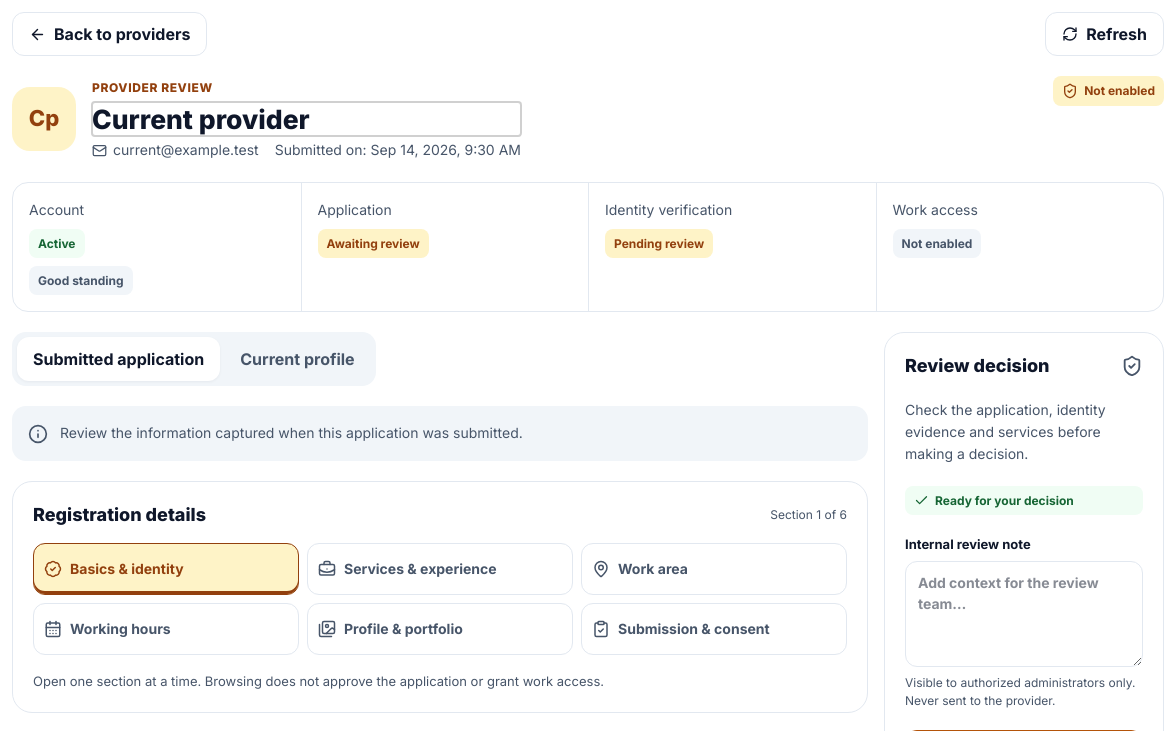
Test: Admin application dossier › hides cached dossier data after an access refetch fails with 401
The image size is (1176, 731).
Click the button with test id "review-refresh" at (1105,34), box [1045, 12, 1164, 56]
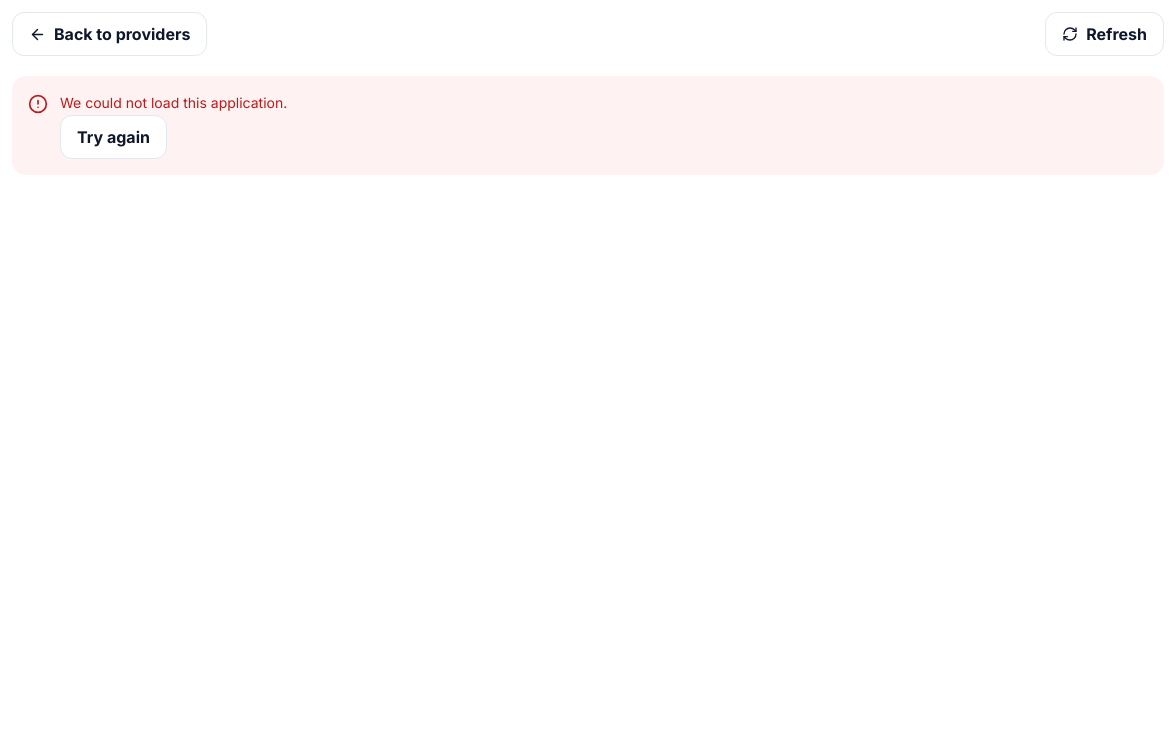
Expected: the text "We could not load this application." is shown, [60, 94, 287, 111]
